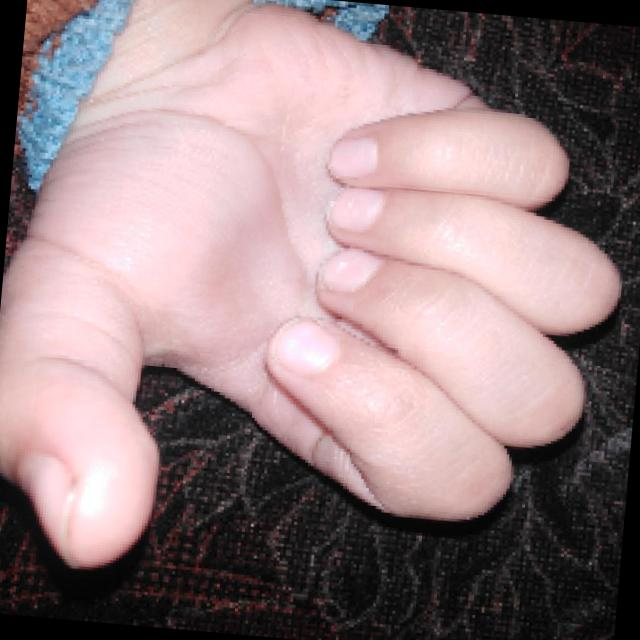Nail: (28, 454, 75, 552), (269, 319, 339, 374), (317, 249, 382, 291), (327, 188, 384, 230), (328, 139, 378, 180)
